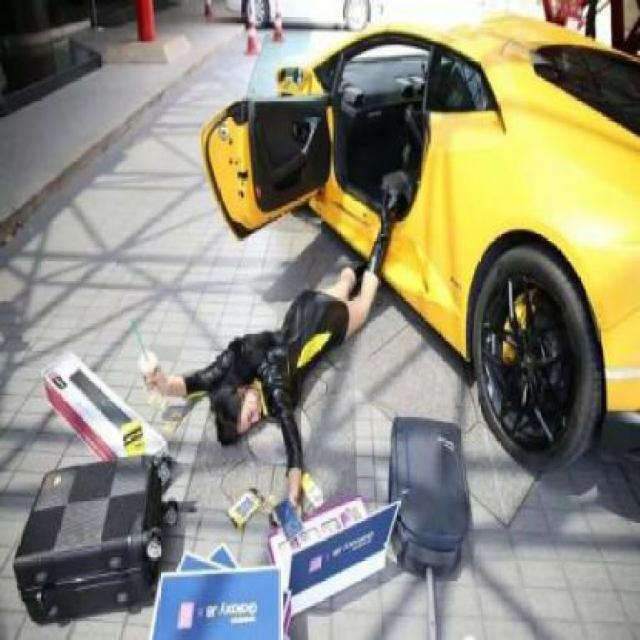fall: (122, 172, 433, 512)
